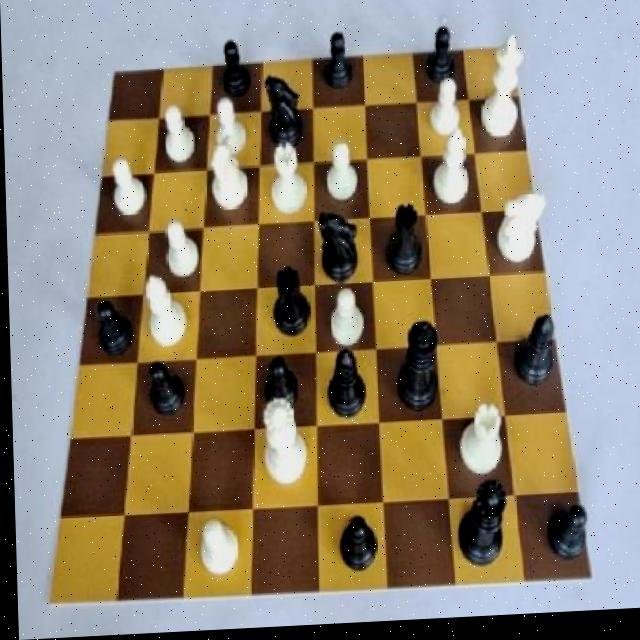bishop: (503, 302, 558, 405), (321, 338, 372, 430)
black-bishop: (388, 313, 444, 433)
black-king: (311, 199, 367, 294), (257, 73, 312, 159)
black-knight: (537, 495, 589, 575), (331, 508, 380, 587), (138, 352, 189, 427), (85, 292, 137, 362), (418, 23, 464, 95), (315, 32, 361, 103), (213, 34, 256, 109), (256, 351, 302, 421)
black-pawn: (448, 466, 511, 584)
black-queen: (376, 195, 427, 285), (265, 263, 314, 346)
black-rook: (428, 125, 476, 218), (139, 271, 191, 354)
white-bishop: (475, 32, 529, 159)
white-king: (491, 185, 550, 281), (205, 145, 252, 223)
white-knight: (189, 510, 242, 585), (321, 285, 370, 356), (104, 152, 152, 220), (157, 217, 203, 286), (322, 137, 363, 210), (209, 94, 252, 162), (156, 105, 199, 172), (427, 77, 464, 149)
white-pawn: (254, 393, 310, 496)
white-queen: (451, 398, 506, 489), (263, 142, 311, 227)
